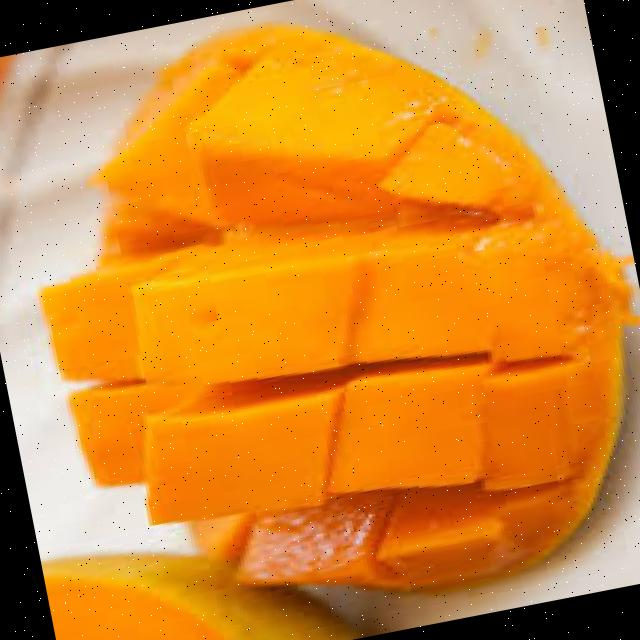mango: (145, 351, 487, 524)
